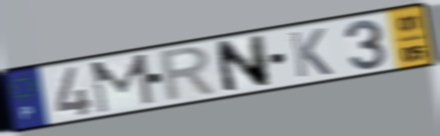3: (343, 18, 388, 72)
4: (54, 64, 95, 117)
K: (287, 26, 335, 80)
M: (88, 51, 157, 116)
N: (212, 33, 273, 96)
R: (158, 43, 221, 105)
